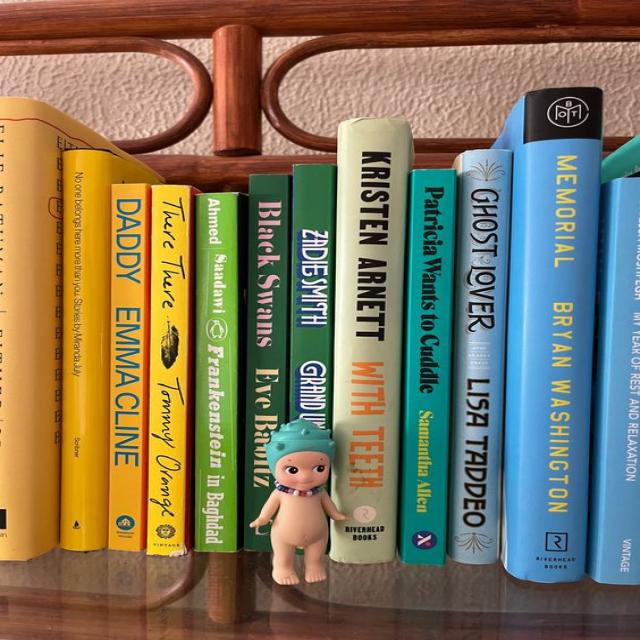book: (507, 90, 605, 584), (331, 121, 409, 563), (444, 150, 513, 562), (404, 168, 456, 564), (60, 151, 106, 549), (145, 186, 190, 556), (246, 172, 289, 550), (196, 192, 238, 551), (107, 182, 146, 552), (289, 165, 335, 427)
